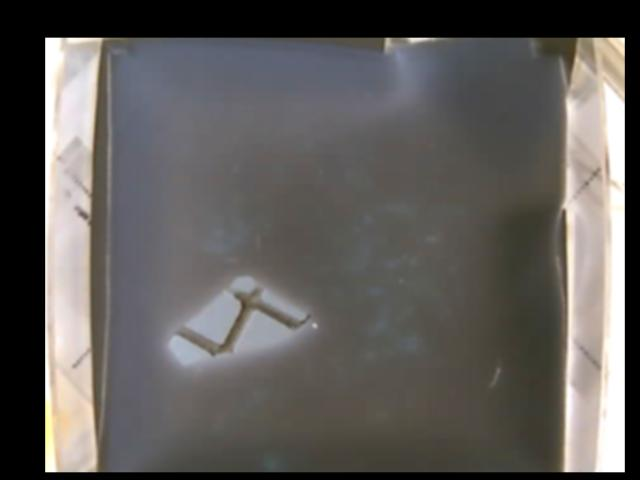China: (168, 274, 315, 366)
